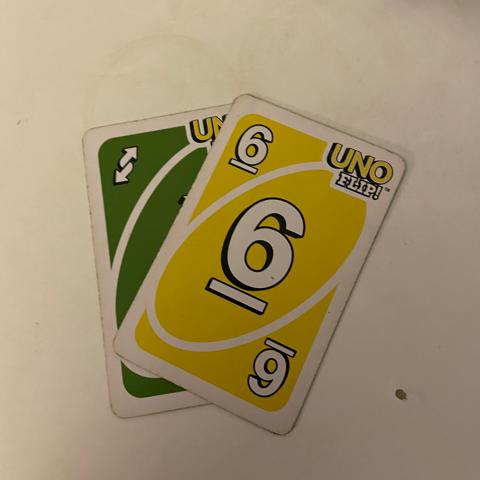lgreenrevers-20: (99, 133, 156, 195)
lyellow-6: (226, 121, 280, 186)
